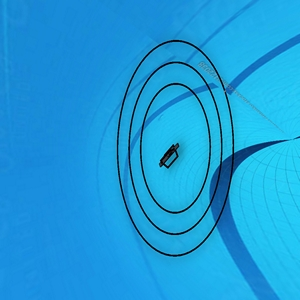circle: (112, 36, 241, 258)
submarine: (159, 144, 185, 167)
